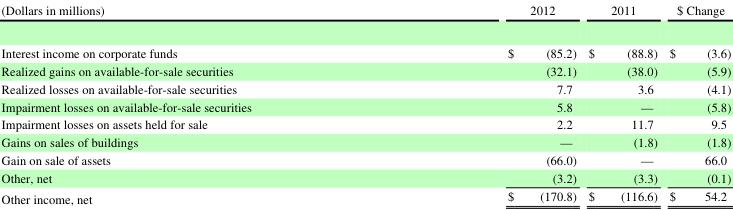table: (0, 0, 730, 206)
table column: (0, 0, 378, 206), (378, 0, 581, 206), (581, 0, 662, 206), (662, 0, 730, 206)
table column header: (0, 0, 730, 30)
table row: (0, 30, 730, 61), (0, 0, 730, 30), (0, 186, 730, 206), (0, 167, 730, 186), (0, 61, 730, 79), (0, 96, 730, 114), (0, 114, 730, 132), (0, 132, 730, 150), (0, 79, 730, 96), (0, 150, 730, 167)
